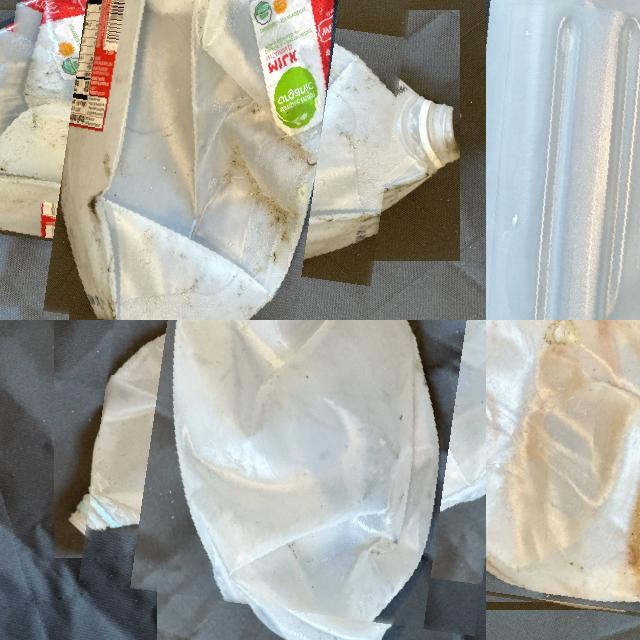milk-jug: (0, 0, 402, 320), (92, 320, 486, 621), (486, 0, 640, 320), (486, 320, 640, 618)
